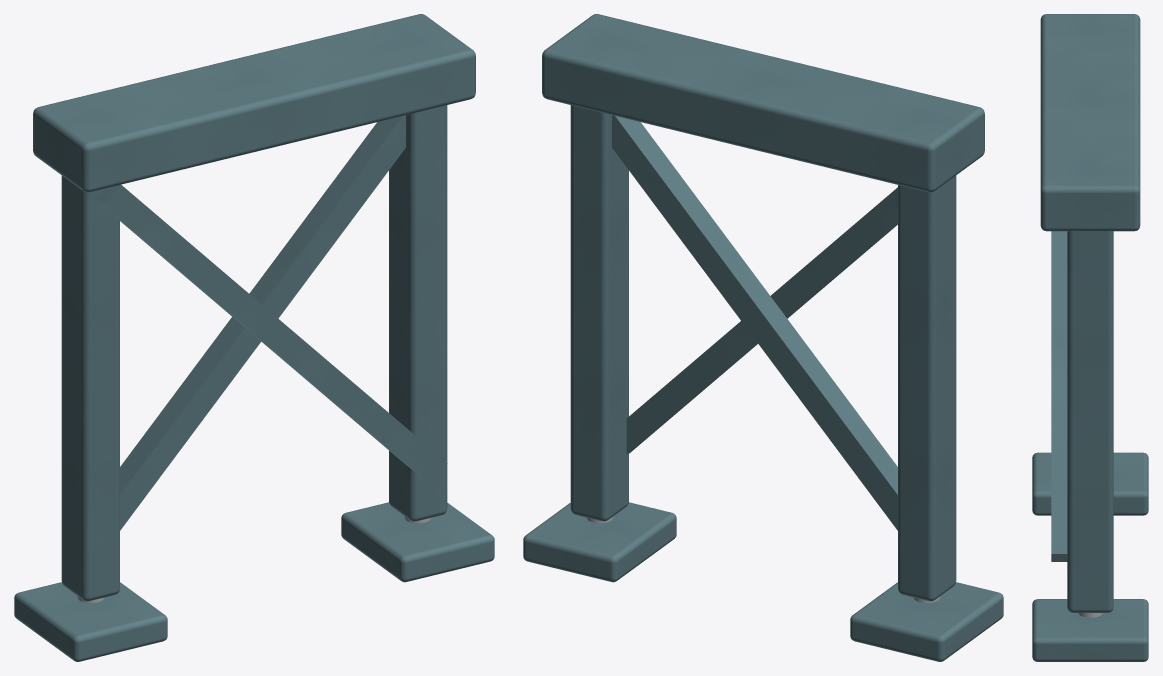
Rendered from gorgehold-survivor-gallery-and-operations-rack-rail-ad-659bc325__32888.glb.
The picture shows the model from 3 angles, left to right: view 1: azimuth 30°, elevation 25°; view 2: azimuth 150°, elevation 25°; view 3: azimuth 270°, elevation 25°; orthographic projection. The views are drawn at different scales.
Parts seen in each view (by area): view 1: rack-rail-adjustable-trestle; view 2: rack-rail-adjustable-trestle; view 3: rack-rail-adjustable-trestle.
Boxes of the visible parts, bbox=[...] form: rack-rail-adjustable-trestle: bbox=[14, 14, 494, 661]; rack-rail-adjustable-trestle: bbox=[523, 14, 1003, 661]; rack-rail-adjustable-trestle: bbox=[1032, 14, 1148, 661].
Size of the model in its own units: 1.34 by 1.55 by 0.35.
Materials: 2 (2 with a texture image).
